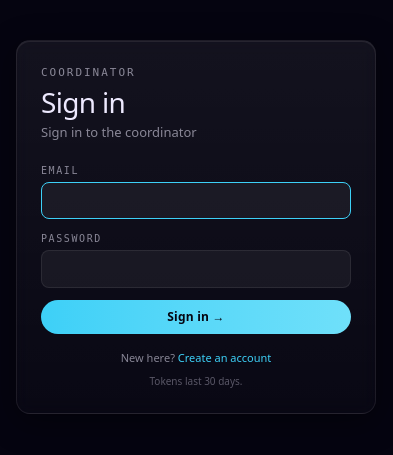
shows a generic message on 401
In the field labelled "Email": (196, 201) [41,182,351,219], type "ada@studio.dev"
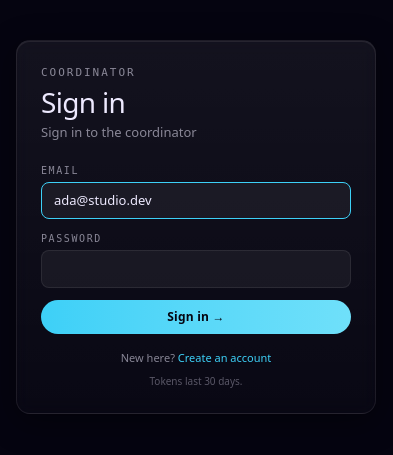
In the password field labelled "Password": (196, 269) [41,250,351,288], type "wrongpw"
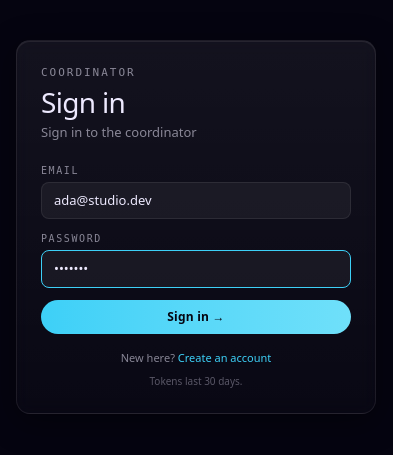
Click the button "Sign in →": click(196, 317) [41,300,351,334]
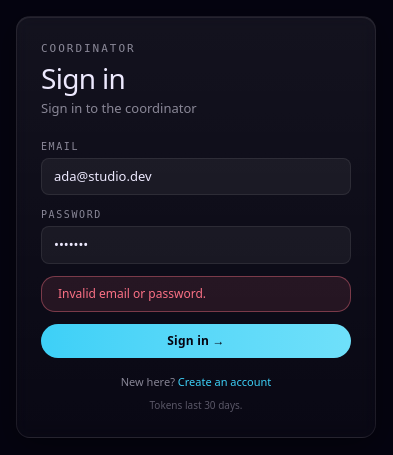
Now the text "Invalid email or password." is shown, box [41,276,351,312]
